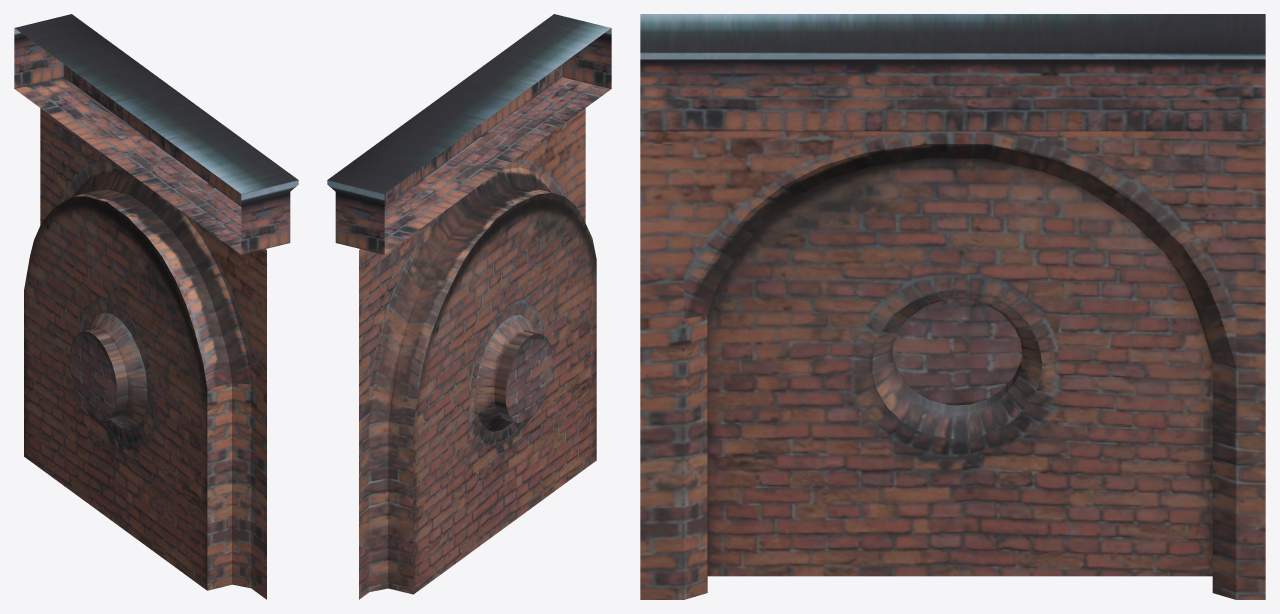
File: straight.glb
The picture shows the model from 3 angles, left to right: view 1: azimuth 30°, elevation 25°; view 2: azimuth 150°, elevation 25°; view 3: azimuth 270°, elevation 25°; orthographic projection. The views are drawn at different scales.
Visible parts, largest first — view 1: Straight; view 2: Straight; view 3: Straight.
Part boxes in pixels (x1,y1,x2,y2): Straight: [14, 14, 298, 599]; Straight: [327, 14, 611, 599]; Straight: [640, 14, 1265, 599].
Bounding box in the file's own units: 0.2291 × 1 × 1.
1 material, 1 textured.
